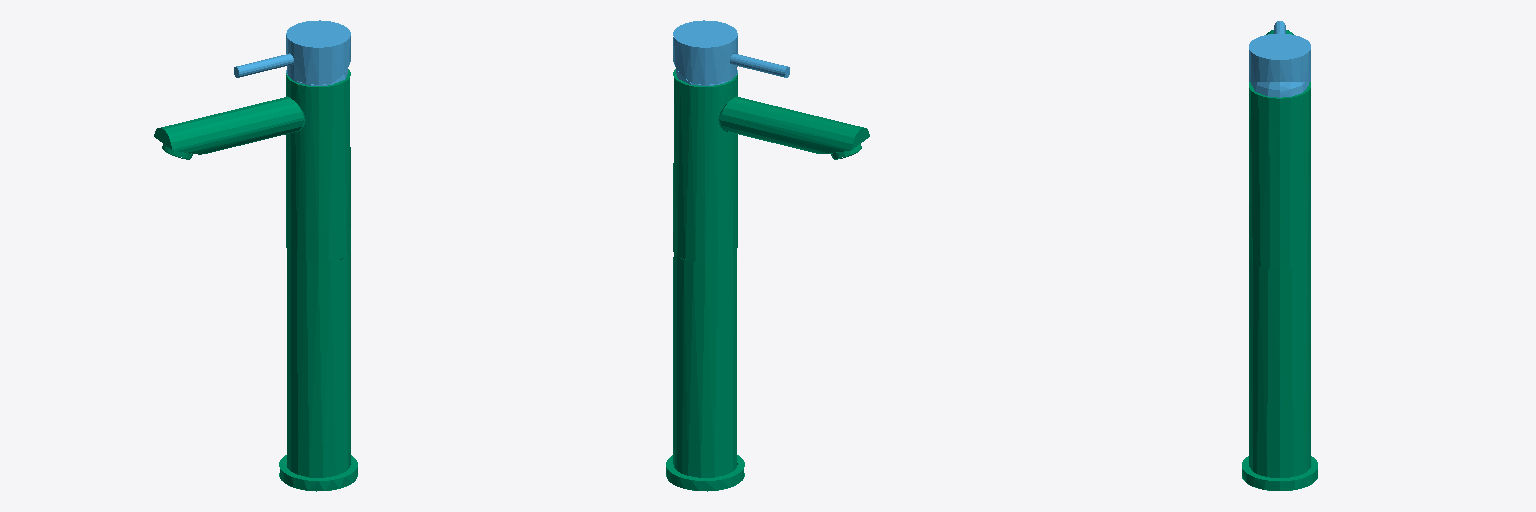
robot.urdf — partnet_6ca769c3a4429e4150da8b99982a3057:
<robot name="partnet_6ca769c3a4429e4150da8b99982a3057">
	<link name="base" />
	<link name="link_0">
		<collision>
			<origin xyz="0.001983030175545514 0 0.052775499999999996" />
			<geometry>
				<mesh filename="new_objs/1741_link_0_7.obj" />
			</geometry>
		</collision>
		<collision>
			<origin xyz="0.001983030175545514 0 0.052775499999999996" />
			<geometry>
				<mesh filename="new_objs/1741_link_0_8.obj" />
			</geometry>
		</collision>
		<collision>
			<origin xyz="0.001983030175545514 0 0.052775499999999996" />
			<geometry>
				<mesh filename="new_objs/1741_link_0_13.obj" />
			</geometry>
		</collision>
		<collision>
			<origin xyz="0.001983030175545514 0 0.052775499999999996" />
			<geometry>
				<mesh filename="new_objs/1741_link_0_6.obj" />
			</geometry>
		</collision>
		<collision>
			<origin xyz="0.001983030175545514 0 0.052775499999999996" />
			<geometry>
				<mesh filename="new_objs/1741_link_0_2.obj" />
			</geometry>
		</collision>
		<collision>
			<origin xyz="0.001983030175545514 0 0.052775499999999996" />
			<geometry>
				<mesh filename="new_objs/1741_link_0_12.obj" />
			</geometry>
		</collision>
		<collision>
			<origin xyz="0.001983030175545514 0 0.052775499999999996" />
			<geometry>
				<mesh filename="new_objs/1741_link_0_10.obj" />
			</geometry>
		</collision>
		<collision>
			<origin xyz="0.001983030175545514 0 0.052775499999999996" />
			<geometry>
				<mesh filename="new_objs/1741_link_0_9.obj" />
			</geometry>
		</collision>
		<collision>
			<origin xyz="0.001983030175545514 0 0.052775499999999996" />
			<geometry>
				<mesh filename="new_objs/1741_link_0_5.obj" />
			</geometry>
		</collision>
		<collision>
			<origin xyz="0.001983030175545514 0 0.052775499999999996" />
			<geometry>
				<mesh filename="new_objs/1741_link_0_1.obj" />
			</geometry>
		</collision>
		<collision>
			<origin xyz="0.001983030175545514 0 0.052775499999999996" />
			<geometry>
				<mesh filename="new_objs/1741_link_0_3.obj" />
			</geometry>
		</collision>
		<collision>
			<origin xyz="0.001983030175545514 0 0.052775499999999996" />
			<geometry>
				<mesh filename="new_objs/1741_link_0_4.obj" />
			</geometry>
		</collision>
		<collision>
			<origin xyz="0.001983030175545514 0 0.052775499999999996" />
			<geometry>
				<mesh filename="new_objs/1741_link_0_11.obj" />
			</geometry>
		</collision>
		<collision>
			<origin xyz="0.001983030175545514 0 0.052775499999999996" />
			<geometry>
				<mesh filename="new_objs/1741_link_0_0.obj" />
			</geometry>
		</collision>
		<visual name="switch-part[&quot;id]">
			<origin xyz="0.001983030175545514 0 0.052775499999999996" />
			<geometry>
				<mesh filename="textured_objs/original-34.obj" />
			</geometry>
		</visual>
		<visual name="switch-part[&quot;id]">
			<origin xyz="0.001983030175545514 0 0.052775499999999996" />
			<geometry>
				<mesh filename="textured_objs/original-30.obj" />
			</geometry>
		</visual>
		<visual name="switch-part[&quot;id]">
			<origin xyz="0.001983030175545514 0 0.052775499999999996" />
			<geometry>
				<mesh filename="textured_objs/original-16.obj" />
			</geometry>
		</visual>
		<visual name="switch-part[&quot;id]">
			<origin xyz="0.001983030175545514 0 0.052775499999999996" />
			<geometry>
				<mesh filename="textured_objs/original-38.obj" />
			</geometry>
		</visual>
		<visual name="switch-part[&quot;id]">
			<origin xyz="0.001983030175545514 0 0.052775499999999996" />
			<geometry>
				<mesh filename="textured_objs/original-33.obj" />
			</geometry>
		</visual>
		<visual name="switch-part[&quot;id]">
			<origin xyz="0.001983030175545514 0 0.052775499999999996" />
			<geometry>
				<mesh filename="textured_objs/original-43.obj" />
			</geometry>
		</visual>
		<visual name="switch-part[&quot;id]">
			<origin xyz="0.001983030175545514 0 0.052775499999999996" />
			<geometry>
				<mesh filename="textured_objs/original-45.obj" />
			</geometry>
		</visual>
		<visual name="switch-part[&quot;id]">
			<origin xyz="0.001983030175545514 0 0.052775499999999996" />
			<geometry>
				<mesh filename="textured_objs/original-29.obj" />
			</geometry>
		</visual>
		<visual name="switch-part[&quot;id]">
			<origin xyz="0.001983030175545514 0 0.052775499999999996" />
			<geometry>
				<mesh filename="textured_objs/original-17.obj" />
			</geometry>
		</visual>
		<visual name="switch-part[&quot;id]">
			<origin xyz="0.001983030175545514 0 0.052775499999999996" />
			<geometry>
				<mesh filename="textured_objs/original-44.obj" />
			</geometry>
		</visual>
		</link>
	<joint name="joint_0" type="revolute">
		<origin xyz="-0.001983030175545514 0 -0.052775499999999996" />
		<axis xyz="0 1 0" />
		<child link="link_0" />
		<parent link="link_1" />
		<limit lower="-1.5707963267948966" upper="1.5707963267948966" />
	</joint>
	<link name="link_1">
		<collision>
			<origin xyz="0 0 0" />
			<geometry>
				<mesh filename="new_objs/1741_link_1_35.obj" />
			</geometry>
		</collision>
		<collision>
			<origin xyz="0 0 0" />
			<geometry>
				<mesh filename="new_objs/1741_link_1_43.obj" />
			</geometry>
		</collision>
		<collision>
			<origin xyz="0 0 0" />
			<geometry>
				<mesh filename="new_objs/1741_link_1_1.obj" />
			</geometry>
		</collision>
		<collision>
			<origin xyz="0 0 0" />
			<geometry>
				<mesh filename="new_objs/1741_link_1_27.obj" />
			</geometry>
		</collision>
		<collision>
			<origin xyz="0 0 0" />
			<geometry>
				<mesh filename="new_objs/1741_link_1_48.obj" />
			</geometry>
		</collision>
		<collision>
			<origin xyz="0 0 0" />
			<geometry>
				<mesh filename="new_objs/1741_link_1_20.obj" />
			</geometry>
		</collision>
		<collision>
			<origin xyz="0 0 0" />
			<geometry>
				<mesh filename="new_objs/1741_link_1_49.obj" />
			</geometry>
		</collision>
		<collision>
			<origin xyz="0 0 0" />
			<geometry>
				<mesh filename="new_objs/1741_link_1_30.obj" />
			</geometry>
		</collision>
		<collision>
			<origin xyz="0 0 0" />
			<geometry>
				<mesh filename="new_objs/1741_link_1_28.obj" />
			</geometry>
		</collision>
		<collision>
			<origin xyz="0 0 0" />
			<geometry>
				<mesh filename="new_objs/1741_link_1_32.obj" />
			</geometry>
		</collision>
		<collision>
			<origin xyz="0 0 0" />
			<geometry>
				<mesh filename="new_objs/1741_link_1_22.obj" />
			</geometry>
		</collision>
		<collision>
			<origin xyz="0 0 0" />
			<geometry>
				<mesh filename="new_objs/1741_link_1_3.obj" />
			</geometry>
		</collision>
		<collision>
			<origin xyz="0 0 0" />
			<geometry>
				<mesh filename="new_objs/1741_link_1_18.obj" />
			</geometry>
		</collision>
		<collision>
			<origin xyz="0 0 0" />
			<geometry>
				<mesh filename="new_objs/1741_link_1_24.obj" />
			</geometry>
		</collision>
		<collision>
			<origin xyz="0 0 0" />
			<geometry>
				<mesh filename="new_objs/1741_link_1_44.obj" />
			</geometry>
		</collision>
		<collision>
			<origin xyz="0 0 0" />
			<geometry>
				<mesh filename="new_objs/1741_link_1_5.obj" />
			</geometry>
		</collision>
		<collision>
			<origin xyz="0 0 0" />
			<geometry>
				<mesh filename="new_objs/1741_link_1_0.obj" />
			</geometry>
		</collision>
		<collision>
			<origin xyz="0 0 0" />
			<geometry>
				<mesh filename="new_objs/1741_link_1_15.obj" />
			</geometry>
		</collision>
		<collision>
			<origin xyz="0 0 0" />
			<geometry>
				<mesh filename="new_objs/1741_link_1_25.obj" />
			</geometry>
		</collision>
		<collision>
			<origin xyz="0 0 0" />
			<geometry>
				<mesh filename="new_objs/1741_link_1_39.obj" />
			</geometry>
		</collision>
		<collision>
			<origin xyz="0 0 0" />
			<geometry>
				<mesh filename="new_objs/1741_link_1_29.obj" />
			</geometry>
		</collision>
		<collision>
			<origin xyz="0 0 0" />
			<geometry>
				<mesh filename="new_objs/1741_link_1_9.obj" />
			</geometry>
		</collision>
		<collision>
			<origin xyz="0 0 0" />
			<geometry>
				<mesh filename="new_objs/1741_link_1_42.obj" />
			</geometry>
		</collision>
		<collision>
			<origin xyz="0 0 0" />
			<geometry>
				<mesh filename="new_objs/1741_link_1_16.obj" />
			</geometry>
		</collision>
		<collision>
			<origin xyz="0 0 0" />
			<geometry>
				<mesh filename="new_objs/1741_link_1_47.obj" />
			</geometry>
		</collision>
		<collision>
			<origin xyz="0 0 0" />
			<geometry>
				<mesh filename="new_objs/1741_link_1_13.obj" />
			</geometry>
		</collision>
		<collision>
			<origin xyz="0 0 0" />
			<geometry>
				<mesh filename="new_objs/1741_link_1_14.obj" />
			</geometry>
		</collision>
		<collision>
			<origin xyz="0 0 0" />
			<geometry>
				<mesh filename="new_objs/1741_link_1_31.obj" />
			</geometry>
		</collision>
		<collision>
			<origin xyz="0 0 0" />
			<geometry>
				<mesh filename="new_objs/1741_link_1_46.obj" />
			</geometry>
		</collision>
		<collision>
			<origin xyz="0 0 0" />
			<geometry>
				<mesh filename="new_objs/1741_link_1_41.obj" />
			</geometry>
		</collision>
		<collision>
			<origin xyz="0 0 0" />
			<geometry>
				<mesh filename="new_objs/1741_link_1_17.obj" />
			</geometry>
		</collision>
		<collision>
			<origin xyz="0 0 0" />
			<geometry>
				<mesh filename="new_objs/1741_link_1_23.obj" />
			</geometry>
		</collision>
		<collision>
			<origin xyz="0 0 0" />
			<geometry>
				<mesh filename="new_objs/1741_link_1_36.obj" />
			</geometry>
		</collision>
		<collision>
			<origin xyz="0 0 0" />
			<geometry>
				<mesh filename="new_objs/1741_link_1_2.obj" />
			</geometry>
		</collision>
		<collision>
			<origin xyz="0 0 0" />
			<geometry>
				<mesh filename="new_objs/1741_link_1_34.obj" />
			</geometry>
		</collision>
		<collision>
			<origin xyz="0 0 0" />
			<geometry>
				<mesh filename="new_objs/1741_link_1_7.obj" />
			</geometry>
		</collision>
		<collision>
			<origin xyz="0 0 0" />
			<geometry>
				<mesh filename="new_objs/1741_link_1_6.obj" />
			</geometry>
		</collision>
		<collision>
			<origin xyz="0 0 0" />
			<geometry>
				<mesh filename="new_objs/1741_link_1_37.obj" />
			</geometry>
		</collision>
		<collision>
			<origin xyz="0 0 0" />
			<geometry>
				<mesh filename="new_objs/1741_link_1_12.obj" />
			</geometry>
		</collision>
		<collision>
			<origin xyz="0 0 0" />
			<geometry>
				<mesh filename="new_objs/1741_link_1_45.obj" />
			</geometry>
		</collision>
		<collision>
			<origin xyz="0 0 0" />
			<geometry>
				<mesh filename="new_objs/1741_link_1_10.obj" />
			</geometry>
		</collision>
		<collision>
			<origin xyz="0 0 0" />
			<geometry>
				<mesh filename="new_objs/1741_link_1_19.obj" />
			</geometry>
		</collision>
		<collision>
			<origin xyz="0 0 0" />
			<geometry>
				<mesh filename="new_objs/1741_link_1_33.obj" />
			</geometry>
		</collision>
		<collision>
			<origin xyz="0 0 0" />
			<geometry>
				<mesh filename="new_objs/1741_link_1_4.obj" />
			</geometry>
		</collision>
		<collision>
			<origin xyz="0 0 0" />
			<geometry>
				<mesh filename="new_objs/1741_link_1_11.obj" />
			</geometry>
		</collision>
		<collision>
			<origin xyz="0 0 0" />
			<geometry>
				<mesh filename="new_objs/1741_link_1_50.obj" />
			</geometry>
		</collision>
		<collision>
			<origin xyz="0 0 0" />
			<geometry>
				<mesh filename="new_objs/1741_link_1_40.obj" />
			</geometry>
		</collision>
		<collision>
			<origin xyz="0 0 0" />
			<geometry>
				<mesh filename="new_objs/1741_link_1_26.obj" />
			</geometry>
		</collision>
		<collision>
			<origin xyz="0 0 0" />
			<geometry>
				<mesh filename="new_objs/1741_link_1_38.obj" />
			</geometry>
		</collision>
		<collision>
			<origin xyz="0 0 0" />
			<geometry>
				<mesh filename="new_objs/1741_link_1_8.obj" />
			</geometry>
		</collision>
		<collision>
			<origin xyz="0 0 0" />
			<geometry>
				<mesh filename="new_objs/1741_link_1_21.obj" />
			</geometry>
		</collision>
		<visual name="surface_base-part[&quot;id]">
			<origin xyz="0 0 0" />
			<geometry>
				<mesh filename="textured_objs/original-1.obj" />
			</geometry>
		</visual>
		<visual name="surface_base-part[&quot;id]">
			<origin xyz="0 0 0" />
			<geometry>
				<mesh filename="textured_objs/original-27.obj" />
			</geometry>
		</visual>
		<visual name="surface_base-part[&quot;id]">
			<origin xyz="0 0 0" />
			<geometry>
				<mesh filename="textured_objs/original-15.obj" />
			</geometry>
		</visual>
		<visual name="surface_base-part[&quot;id]">
			<origin xyz="0 0 0" />
			<geometry>
				<mesh filename="textured_objs/original-28.obj" />
			</geometry>
		</visual>
		<visual name="vertical_support-part[&quot;id]">
			<origin xyz="0 0 0" />
			<geometry>
				<mesh filename="textured_objs/original-7.obj" />
			</geometry>
		</visual>
		<visual name="vertical_support-part[&quot;id]">
			<origin xyz="0 0 0" />
			<geometry>
				<mesh filename="textured_objs/original-9.obj" />
			</geometry>
		</visual>
		<visual name="vertical_support-part[&quot;id]">
			<origin xyz="0 0 0" />
			<geometry>
				<mesh filename="textured_objs/original-22.obj" />
			</geometry>
		</visual>
		<visual name="vertical_support-part[&quot;id]">
			<origin xyz="0 0 0" />
			<geometry>
				<mesh filename="textured_objs/original-2.obj" />
			</geometry>
		</visual>
		<visual name="vertical_support-part[&quot;id]">
			<origin xyz="0 0 0" />
			<geometry>
				<mesh filename="textured_objs/original-14.obj" />
			</geometry>
		</visual>
		<visual name="tube-part[&quot;id]">
			<origin xyz="0 0 0" />
			<geometry>
				<mesh filename="textured_objs/original-6.obj" />
			</geometry>
		</visual>
		<visual name="tube-part[&quot;id]">
			<origin xyz="0 0 0" />
			<geometry>
				<mesh filename="textured_objs/original-23.obj" />
			</geometry>
		</visual>
		<visual name="tube-part[&quot;id]">
			<origin xyz="0 0 0" />
			<geometry>
				<mesh filename="textured_objs/original-10.obj" />
			</geometry>
		</visual>
		<visual name="tube-part[&quot;id]">
			<origin xyz="0 0 0" />
			<geometry>
				<mesh filename="textured_objs/original-25.obj" />
			</geometry>
		</visual>
		<visual name="tube-part[&quot;id]">
			<origin xyz="0 0 0" />
			<geometry>
				<mesh filename="textured_objs/original-24.obj" />
			</geometry>
		</visual>
		<visual name="mouth-part[&quot;id]">
			<origin xyz="0 0 0" />
			<geometry>
				<mesh filename="textured_objs/original-8.obj" />
			</geometry>
		</visual>
		<visual name="mouth-part[&quot;id]">
			<origin xyz="0 0 0" />
			<geometry>
				<mesh filename="textured_objs/original-11.obj" />
			</geometry>
		</visual>
		<visual name="mouth-part[&quot;id]">
			<origin xyz="0 0 0" />
			<geometry>
				<mesh filename="textured_objs/original-5.obj" />
			</geometry>
		</visual>
		<visual name="mouth-part[&quot;id]">
			<origin xyz="0 0 0" />
			<geometry>
				<mesh filename="textured_objs/original-21.obj" />
			</geometry>
		</visual>
		<visual name="mouth-part[&quot;id]">
			<origin xyz="0 0 0" />
			<geometry>
				<mesh filename="textured_objs/original-4.obj" />
			</geometry>
		</visual>
		<visual name="mouth-part[&quot;id]">
			<origin xyz="0 0 0" />
			<geometry>
				<mesh filename="textured_objs/original-12.obj" />
			</geometry>
		</visual>
		<visual name="mouth-part[&quot;id]">
			<origin xyz="0 0 0" />
			<geometry>
				<mesh filename="textured_objs/original-3.obj" />
			</geometry>
		</visual>
		<visual name="mouth-part[&quot;id]">
			<origin xyz="0 0 0" />
			<geometry>
				<mesh filename="textured_objs/original-13.obj" />
			</geometry>
		</visual>
		<visual name="mouth-part[&quot;id]">
			<origin xyz="0 0 0" />
			<geometry>
				<mesh filename="textured_objs/original-20.obj" />
			</geometry>
		</visual>
		</link>
	<joint name="joint_1" type="fixed">
		<origin rpy="1.570796326794897 0 -1.570796326794897" xyz="0 0 0" />
		<child link="link_1" />
		<parent link="base" />
	</joint>
</robot>

--- Facts derived from the render (not from the file) ---
The picture shows the robot from 3 angles, left to right: view 1: azimuth 30°, elevation 25°; view 2: azimuth 150°, elevation 25°; view 3: azimuth 270°, elevation 25°; orthographic projection.
Robot: partnet_6ca769c3a4429e4150da8b99982a3057 — 3 links, 2 joints (1 revolute, 1 fixed); root link base; default pose: every joint at zero.
Links seen in each view (by area): view 1: link_1, link_0; view 2: link_1, link_0; view 3: link_1, link_0.
Link boxes in pixels (x1,y1,x2,y2): link_1: (154, 69, 357, 491); link_0: (234, 20, 350, 85); link_1: (666, 69, 869, 491); link_0: (673, 20, 789, 85); link_1: (1242, 30, 1317, 490); link_0: (1249, 21, 1310, 97).
Size in the robot's own frame: 0.7895 by 0.2847 by 1.75 metres.
Meshes: 33 distinct files referenced, 33 mesh visuals loaded (33 OBJ).
